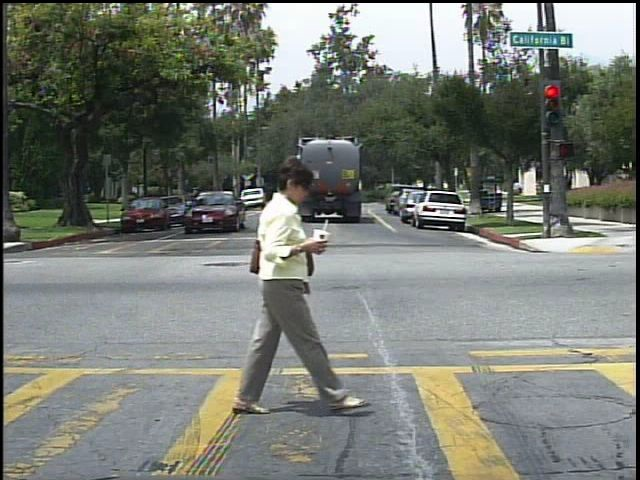person: (224, 151, 344, 423), (515, 180, 528, 200)
